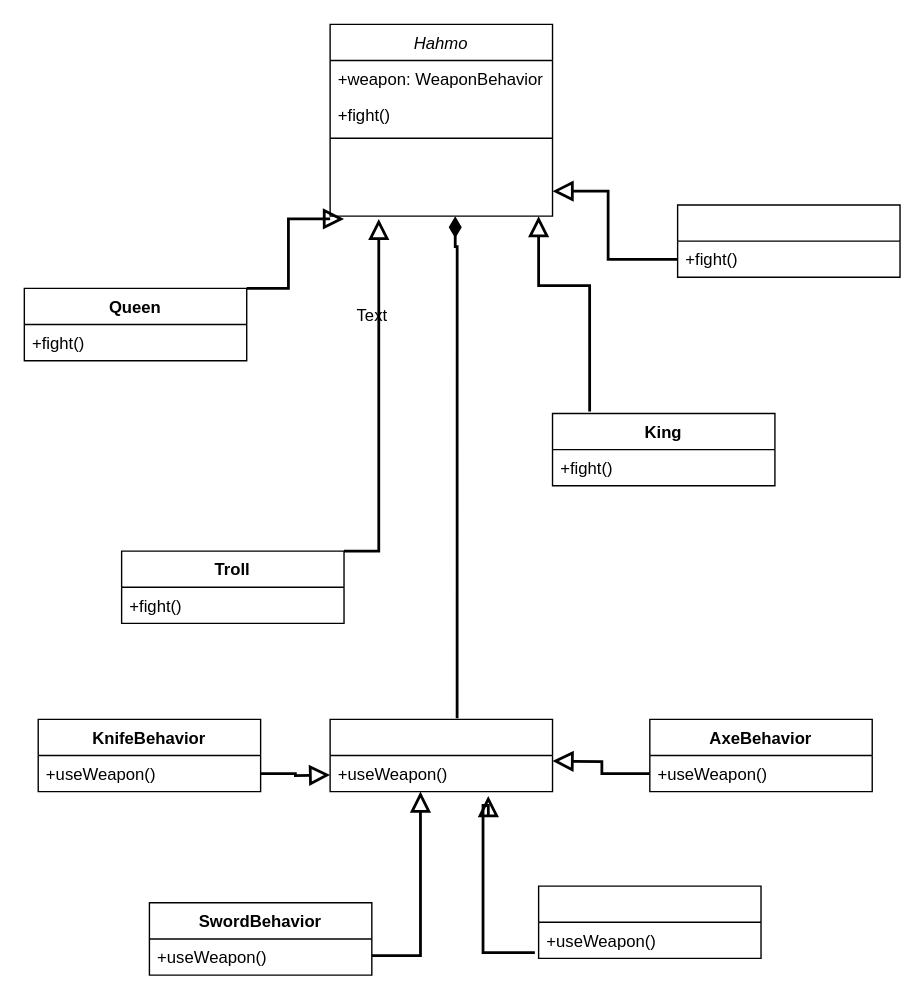
Image size: 924x1004. Some labels were removed from this diagram. Each missing label, with the box of its shape:
ClubBehavior: (537, 885, 761, 958)
Knight: (676, 204, 900, 277)
WeaponBehaviour: (329, 718, 553, 792)
